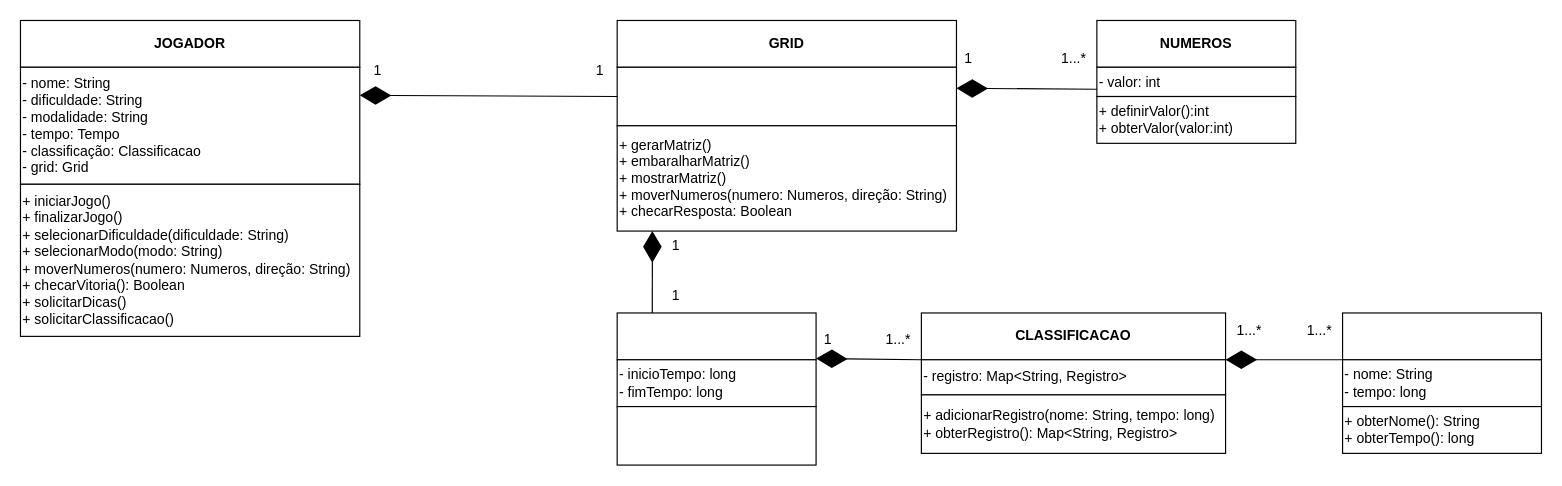
Some shapes in this 1562 by 486 pixel diagram are drawn without their labels. Here are the shapes that lost their labels. From the top down, the centre of each, then its label:
At (786,96): "- tamanho: int - numeros: Numeros".
At (716,336): "TEMPO".
At (1441,336): "RECORD".
At (716,435): "+ iniciarTempo() + finalizarTempo() + obterRegistro(): long".
